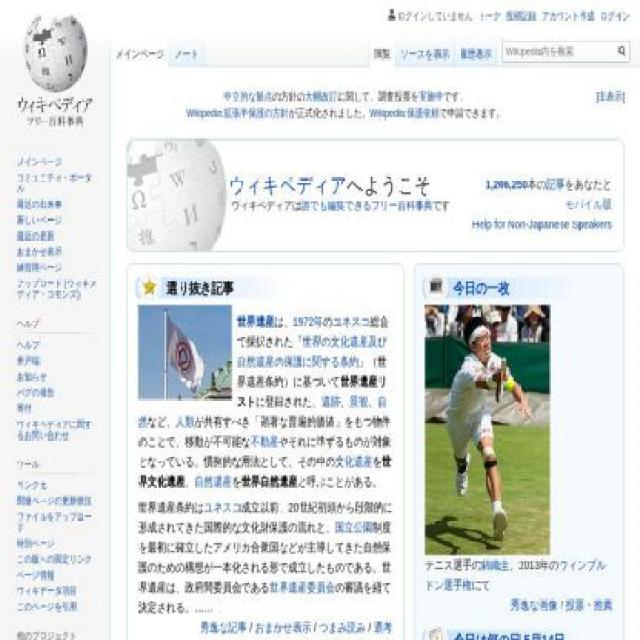button: (396, 33, 456, 67), (111, 33, 169, 67), (454, 33, 498, 67), (170, 33, 204, 67), (369, 33, 397, 67), (599, 91, 623, 103)
field: (502, 40, 630, 63), (614, 41, 629, 62)
